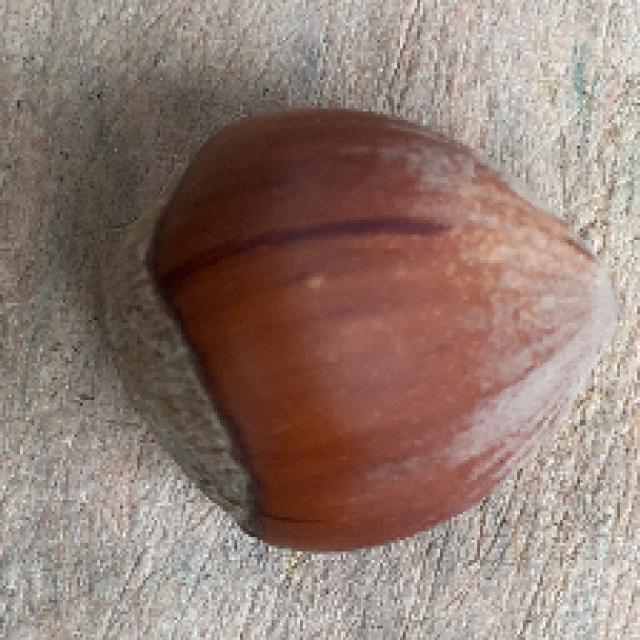qualityHazelnut: (86, 97, 621, 552)
